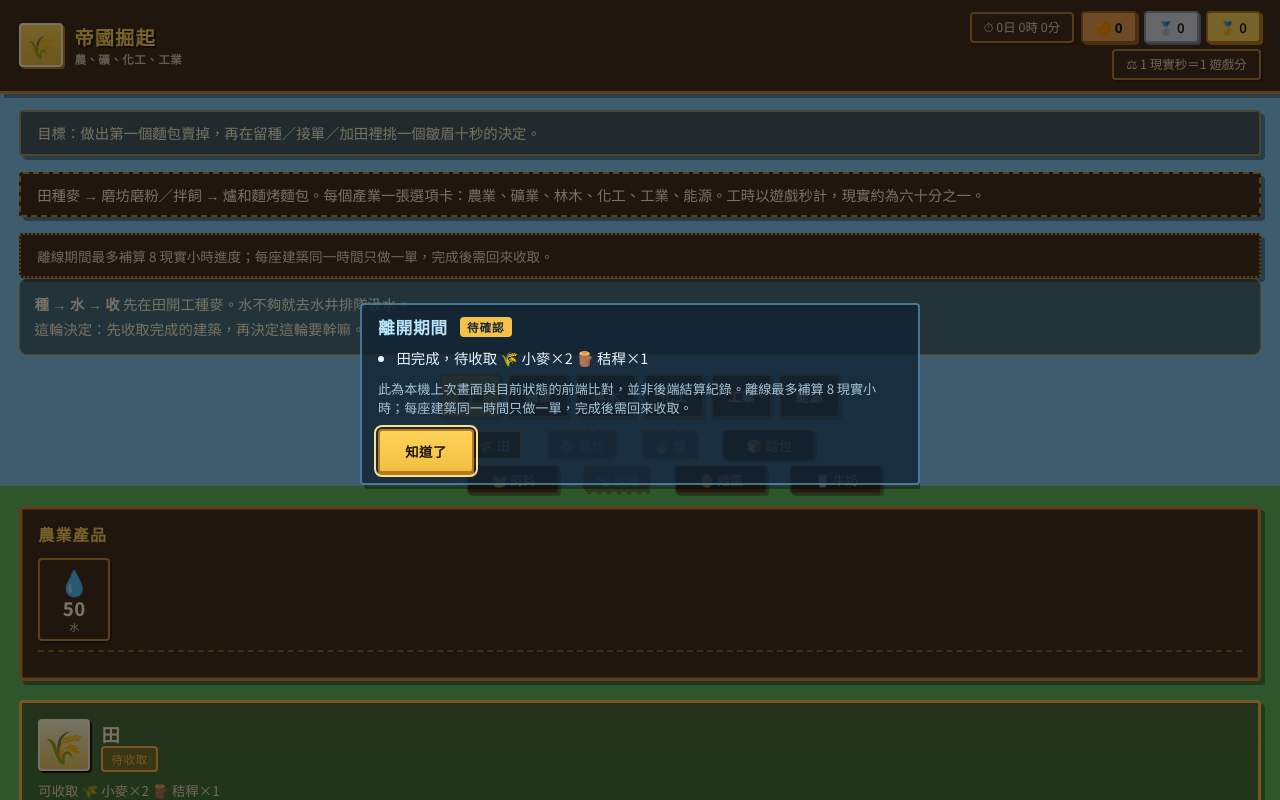
Test: App offline summary (PR-E U11) › persists settled game state to localStorage after dismiss (知道了)
Expected: the dialog is shown, x1=360 y1=303 x2=920 y2=497
Click the button "知道了".
click(426, 451)  # box x1=378 y1=429 x2=474 y2=473
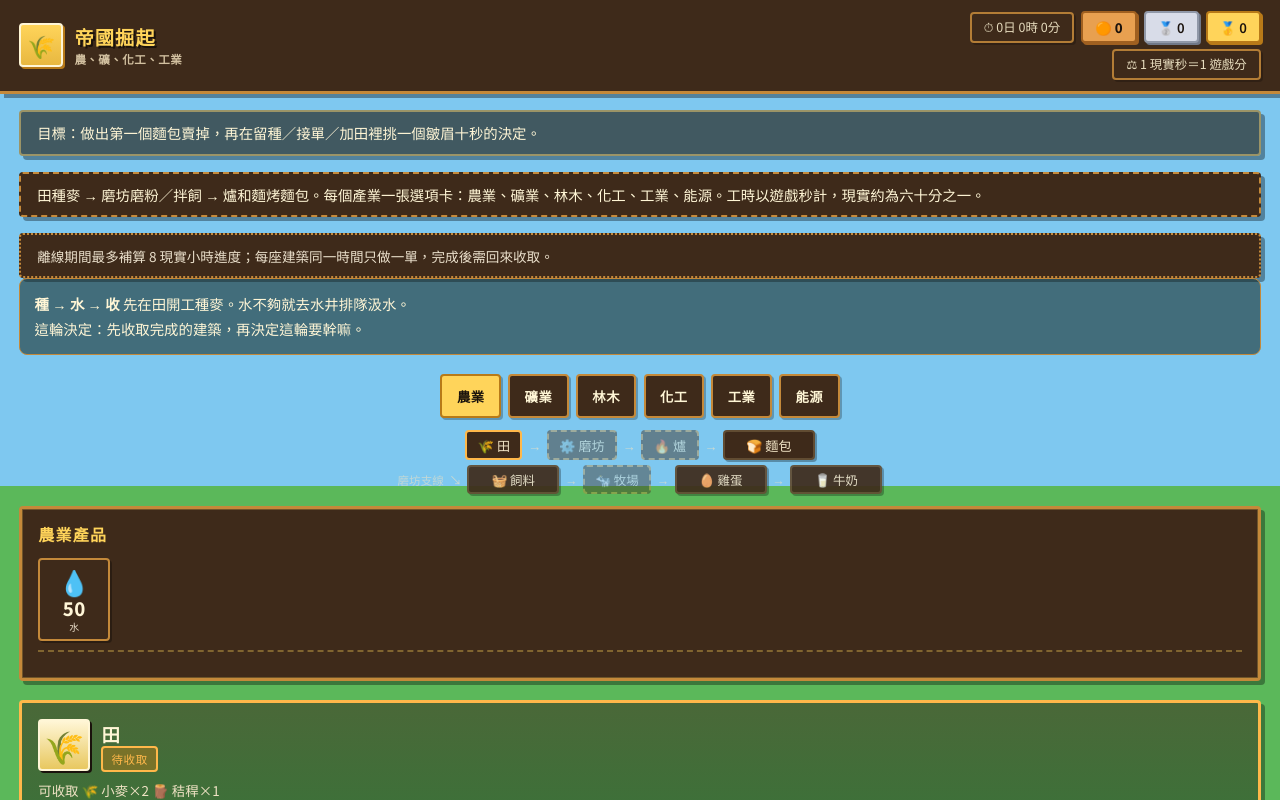
Expected: the dialog is gone
